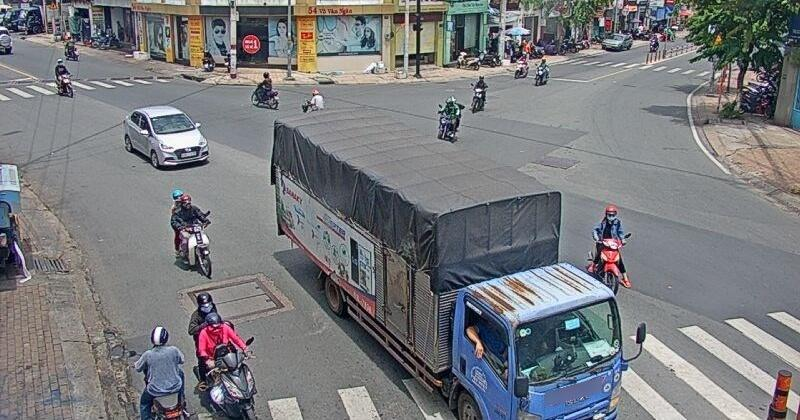xe hoi: (122, 107, 213, 168)
xe may: (184, 289, 258, 420), (126, 325, 188, 420), (584, 201, 630, 294), (435, 97, 462, 143), (251, 71, 281, 106), (469, 71, 488, 113), (53, 62, 75, 96)
xe tai: (268, 103, 625, 420)
